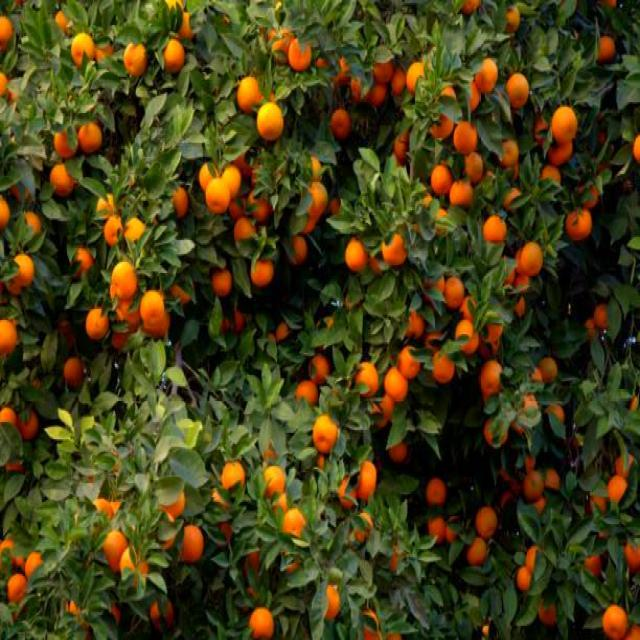Jeruk Sudah Matang: (121, 544, 148, 587), (6, 256, 34, 290), (112, 260, 137, 298), (258, 104, 284, 140), (552, 106, 578, 142), (356, 362, 381, 398), (566, 208, 592, 242), (475, 58, 499, 94), (602, 606, 628, 638), (162, 38, 185, 74), (205, 180, 230, 213), (124, 42, 148, 76), (313, 416, 337, 450), (182, 526, 203, 564), (104, 532, 125, 570), (71, 33, 95, 66), (238, 77, 262, 110), (483, 214, 507, 247), (249, 607, 273, 640), (506, 72, 529, 106), (385, 368, 408, 402), (288, 39, 312, 71), (141, 292, 165, 324), (382, 234, 406, 266), (456, 320, 479, 353), (432, 349, 455, 382), (399, 346, 422, 379), (407, 62, 432, 92), (455, 122, 478, 154), (483, 420, 510, 447), (480, 360, 502, 392), (282, 508, 304, 540), (86, 307, 108, 339), (448, 180, 474, 207), (358, 459, 376, 498), (272, 29, 293, 62), (49, 166, 72, 196), (522, 243, 543, 275), (444, 276, 464, 309), (522, 470, 544, 500), (264, 466, 284, 499), (345, 240, 367, 270), (234, 218, 256, 248), (466, 150, 484, 186), (0, 317, 18, 353), (104, 216, 124, 248), (476, 506, 497, 536), (308, 183, 328, 214), (222, 462, 244, 490), (251, 192, 273, 220), (322, 586, 341, 618), (332, 110, 352, 140), (431, 164, 451, 194), (310, 354, 330, 384), (295, 381, 319, 406), (19, 412, 39, 442), (54, 127, 74, 157), (251, 260, 274, 286), (64, 356, 85, 384), (548, 141, 572, 165), (8, 574, 26, 606), (430, 113, 453, 138), (536, 602, 558, 628), (93, 496, 115, 522), (499, 140, 520, 167), (426, 478, 446, 506), (606, 476, 626, 504), (198, 162, 218, 190), (0, 540, 18, 570), (480, 318, 502, 342), (78, 126, 100, 150), (162, 491, 187, 512), (128, 218, 148, 244), (338, 480, 357, 507), (0, 14, 14, 50), (288, 236, 306, 264), (23, 210, 41, 237), (374, 58, 394, 82), (395, 130, 410, 162), (463, 293, 479, 323), (468, 540, 488, 564), (308, 154, 324, 184), (214, 270, 233, 295), (0, 193, 12, 232), (577, 182, 596, 206), (179, 10, 194, 40), (466, 80, 481, 110), (597, 36, 615, 61), (625, 540, 640, 570), (1, 406, 17, 434), (223, 168, 240, 194), (350, 72, 366, 99), (542, 164, 560, 188), (538, 358, 556, 381), (504, 6, 519, 33), (516, 568, 532, 593), (25, 552, 43, 574), (428, 518, 444, 542), (446, 518, 462, 542), (54, 11, 71, 33), (369, 83, 386, 105), (172, 190, 188, 213), (392, 68, 406, 94), (616, 453, 635, 472), (544, 468, 560, 490), (518, 393, 536, 412), (527, 546, 540, 572), (389, 444, 407, 462), (98, 193, 114, 213), (440, 84, 457, 102), (461, 0, 480, 14), (632, 131, 640, 163), (0, 70, 6, 97)
